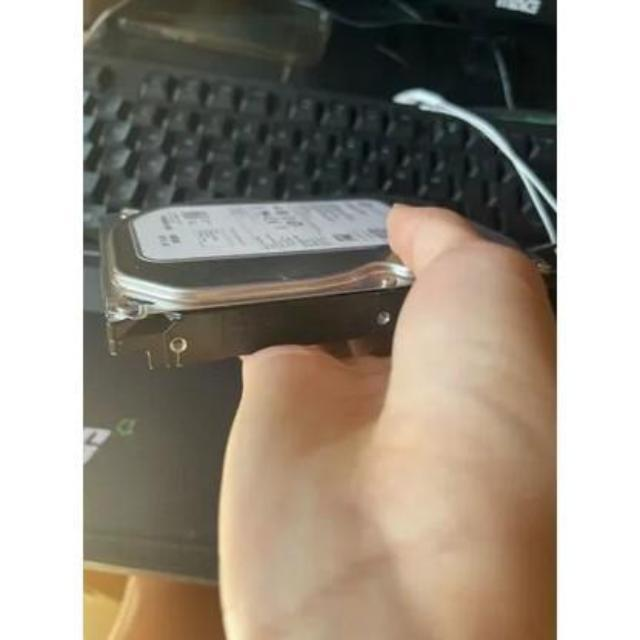DISK: (102, 177, 467, 372)
